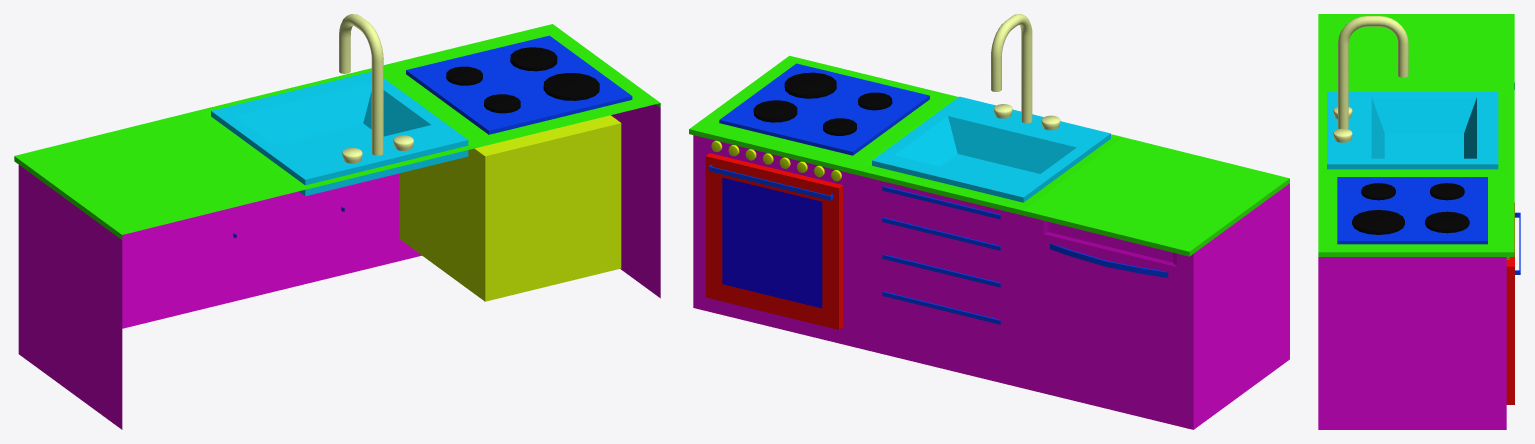
File: Cocina.FBX
The picture shows the model from 3 angles, left to right: view 1: azimuth 30°, elevation 25°; view 2: azimuth 150°, elevation 25°; view 3: azimuth 270°, elevation 25°; orthographic projection. The views are drawn at different scales.
Parts seen in each view (by area): view 1: Cocina; view 2: Cocina; view 3: Cocina.
Part boxes in pixels (box(x1,y1,x2,y2)): Cocina: box(14, 14, 660, 429); Cocina: box(689, 14, 1289, 429); Cocina: box(1318, 14, 1520, 429).
Bounding box in the file's own units: 3.26 × 1.87 × 1.17.
